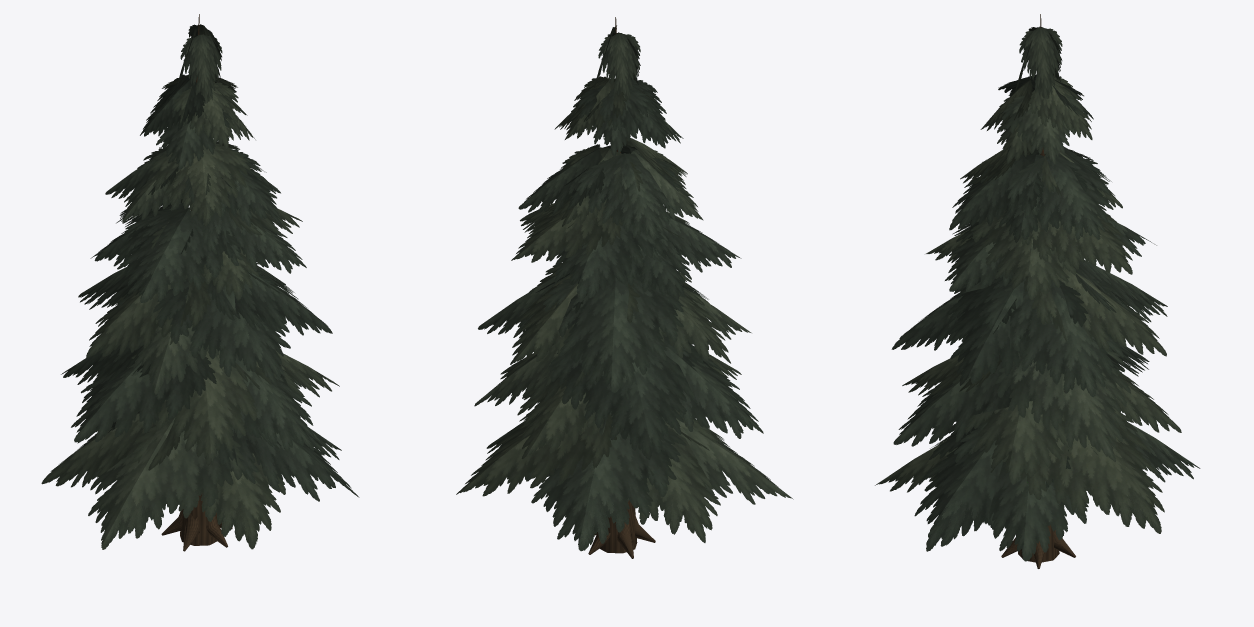
3 views of the same model, side by side, from view 1: azimuth 30°, elevation 25°; view 2: azimuth 150°, elevation 25°; view 3: azimuth 270°, elevation 25° (orthographic). The views are drawn at different scales.
Visible parts, largest first — view 1: Tapered harvest trunk; view 2: Tapered harvest trunk; view 3: Tapered harvest trunk.
Boxes of the visible parts, left/top/right/bottom form: Tapered harvest trunk: left=41, top=14, right=359, bottom=551; Tapered harvest trunk: left=456, top=17, right=793, bottom=558; Tapered harvest trunk: left=875, top=14, right=1200, bottom=568.
Bounding box in the file's own units: 8.41 × 12.31 × 8.21.
3 materials, 2 textured.
